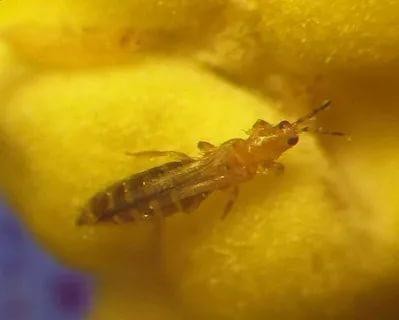tiny_pests: (58, 79, 366, 261)
